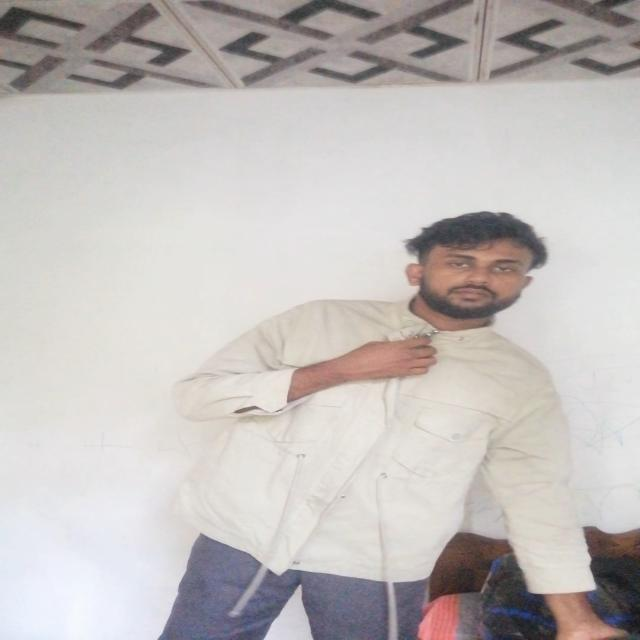Jacket_Wearer: (178, 293, 613, 595)
Person: (173, 208, 604, 640)
